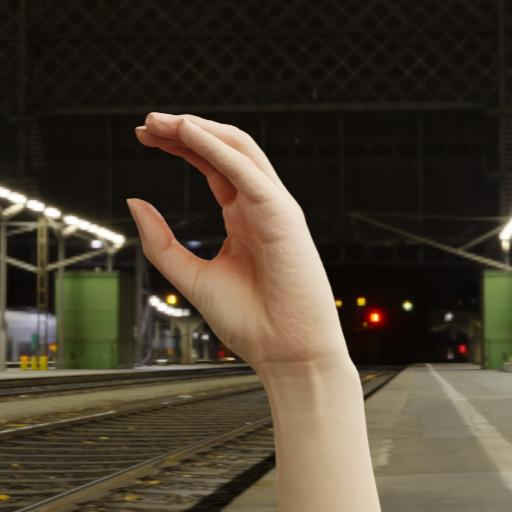C: (122, 99, 348, 372)
